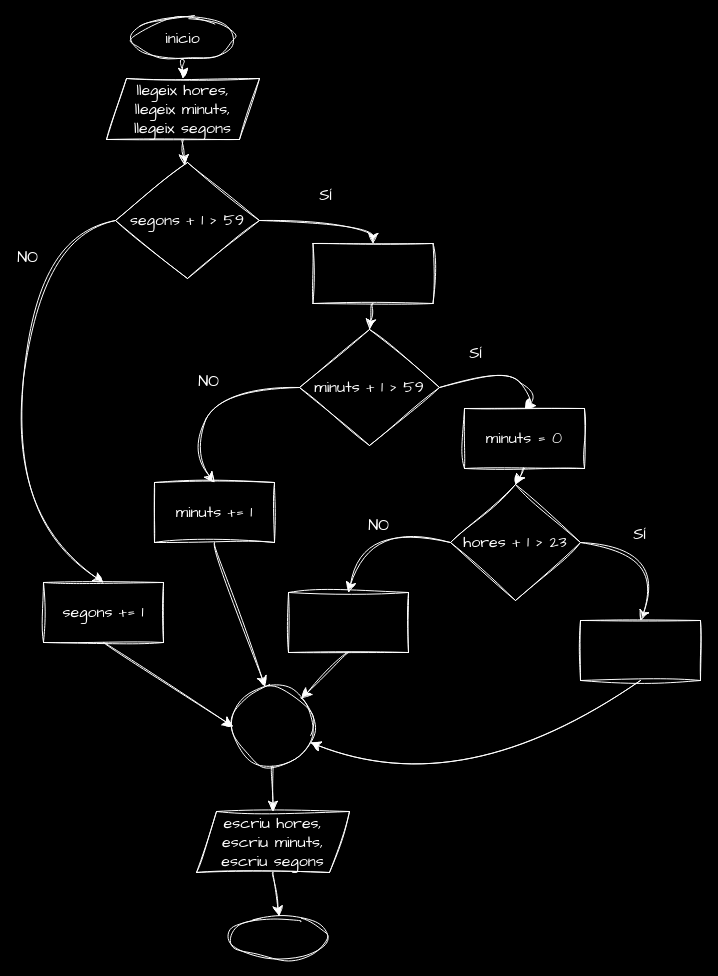
This 718x976 diagram has some shape labels left out. The shapes that lost their labels are listed below. From the top down, each one's box as (x1, y1, x2, y2) in pixels, then its label:
(312, 242, 433, 304): segons = 0
(288, 592, 408, 652): hores += 1
(580, 620, 700, 680): hores = 0
(227, 916, 330, 958): final
